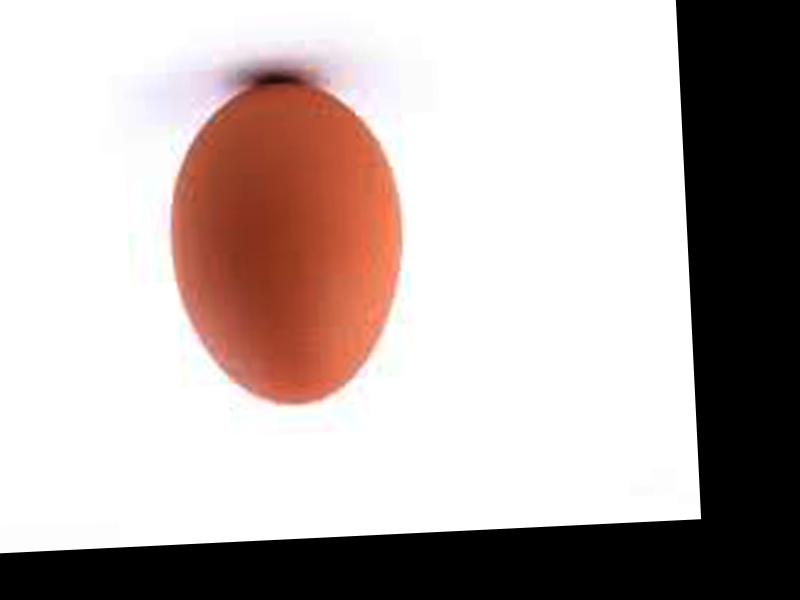Eggs: (161, 77, 406, 412)
